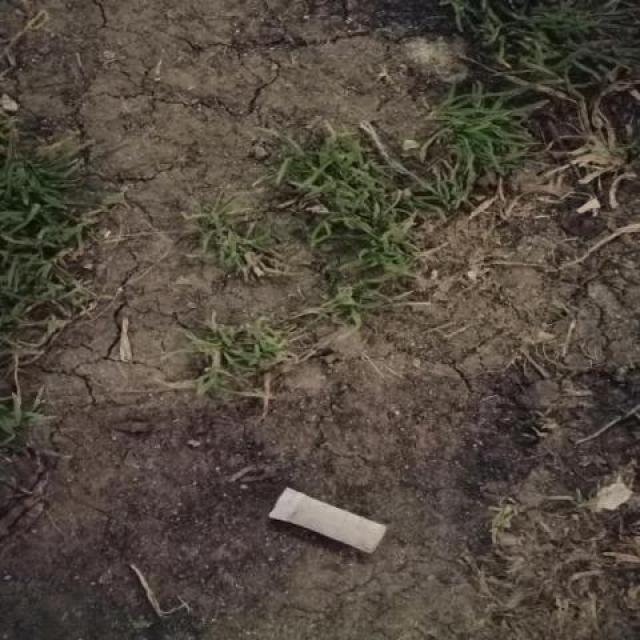non-organic waste: (263, 480, 393, 561)
